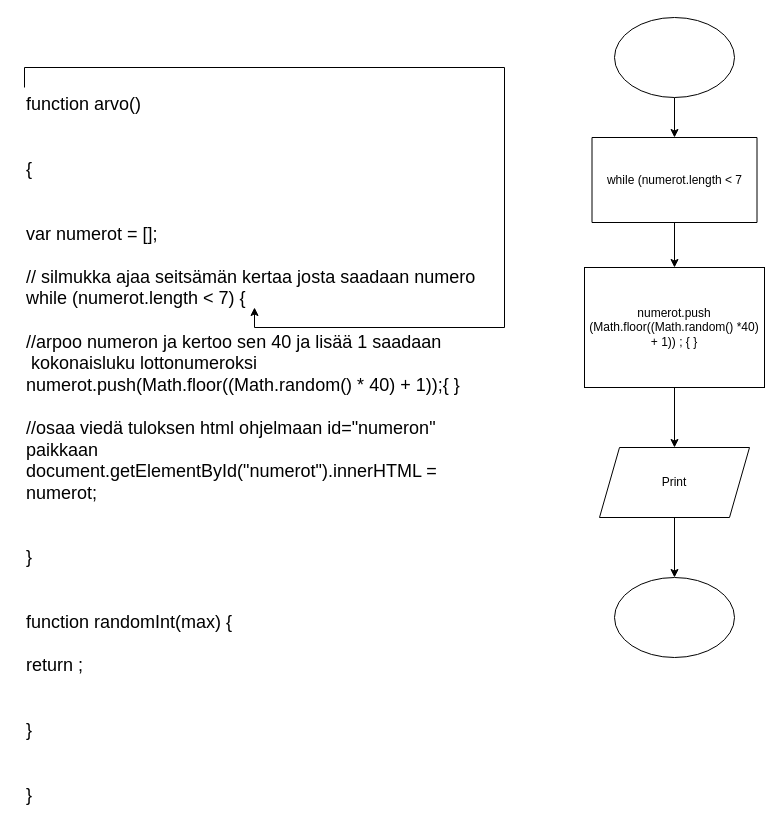
Image size: 782x825. Some labels were removed from this diagram. Each missing label, with the box of its shape:
End: (614, 576, 734, 658)
Start: (614, 16, 734, 98)
